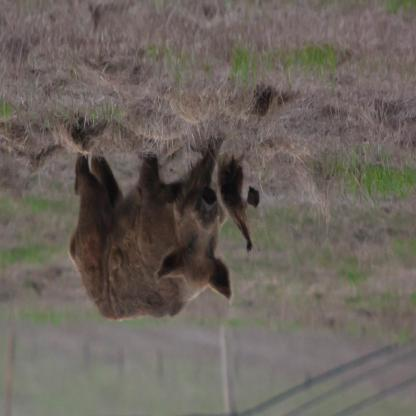boar: (68, 131, 233, 321)
